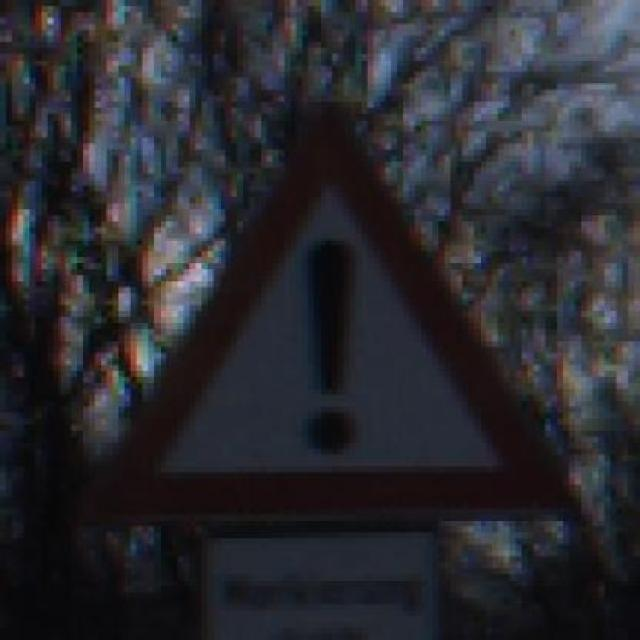Attention Please-: (70, 66, 582, 545)
